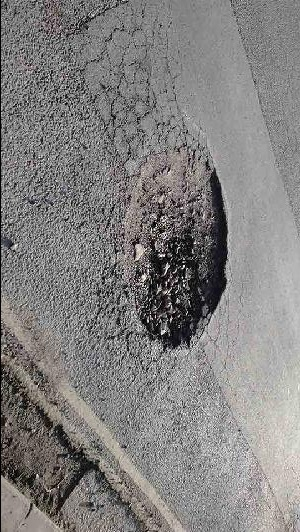pothole: (125, 118, 230, 357), (1, 354, 97, 520)
